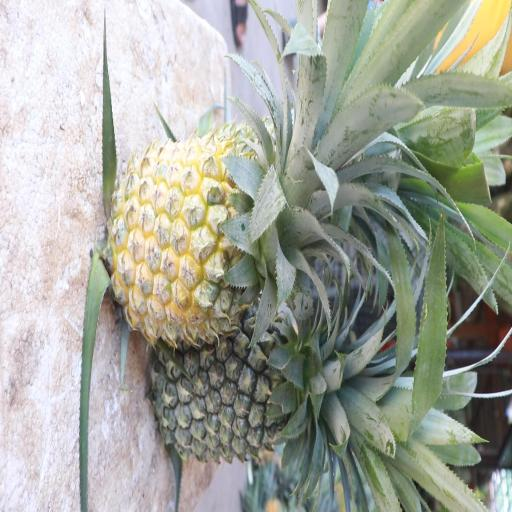Pineapple - v8 v1: (110, 130, 316, 346)
